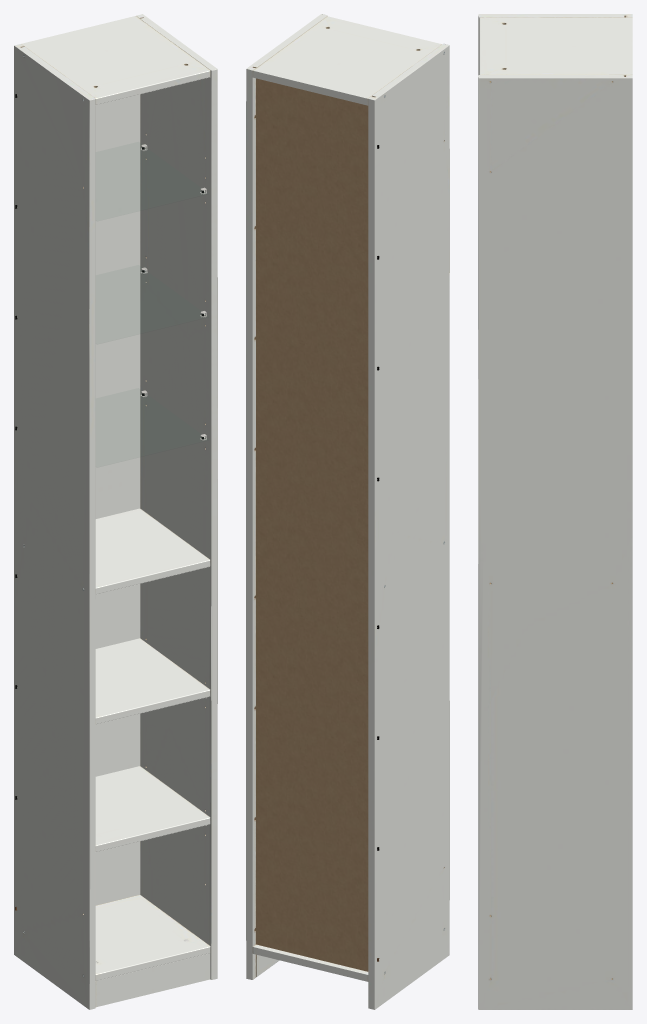
The model's file is pax_dodatkowy_segment_srodkowy_10603825.glb.
3 views of the same model, side by side, from view 1: azimuth 30°, elevation 25°; view 2: azimuth 150°, elevation 25°; view 3: azimuth 270°, elevation 25° (orthographic). The views are drawn at different scales.
Parts seen in each view (by area): view 1: pax_dodatkowy_segment_srodkowy_10603825; view 2: pax_dodatkowy_segment_srodkowy_10603825; view 3: pax_dodatkowy_segment_srodkowy_10603825.
Boxes of the visible parts, x1=… form: pax_dodatkowy_segment_srodkowy_10603825: x1=14, y1=14, x2=217, y2=1009; pax_dodatkowy_segment_srodkowy_10603825: x1=246, y1=14, x2=449, y2=1009; pax_dodatkowy_segment_srodkowy_10603825: x1=478, y1=14, x2=632, y2=1009.
Bounding box in the file's own units: 0.3538 × 2.36 × 0.3551.
2 materials, 2 textured.
